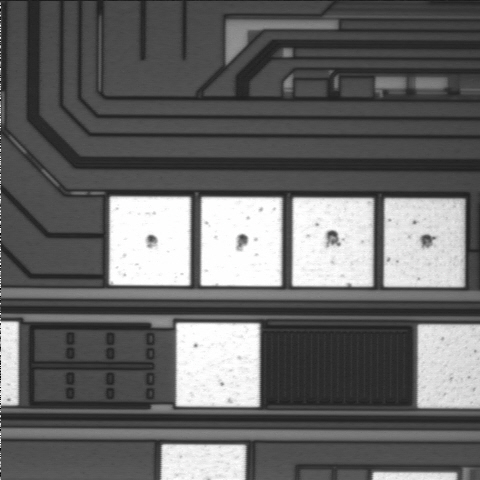pad: (109, 197, 191, 286), (201, 197, 282, 286), (292, 198, 373, 287), (384, 198, 465, 287), (176, 323, 260, 407)
